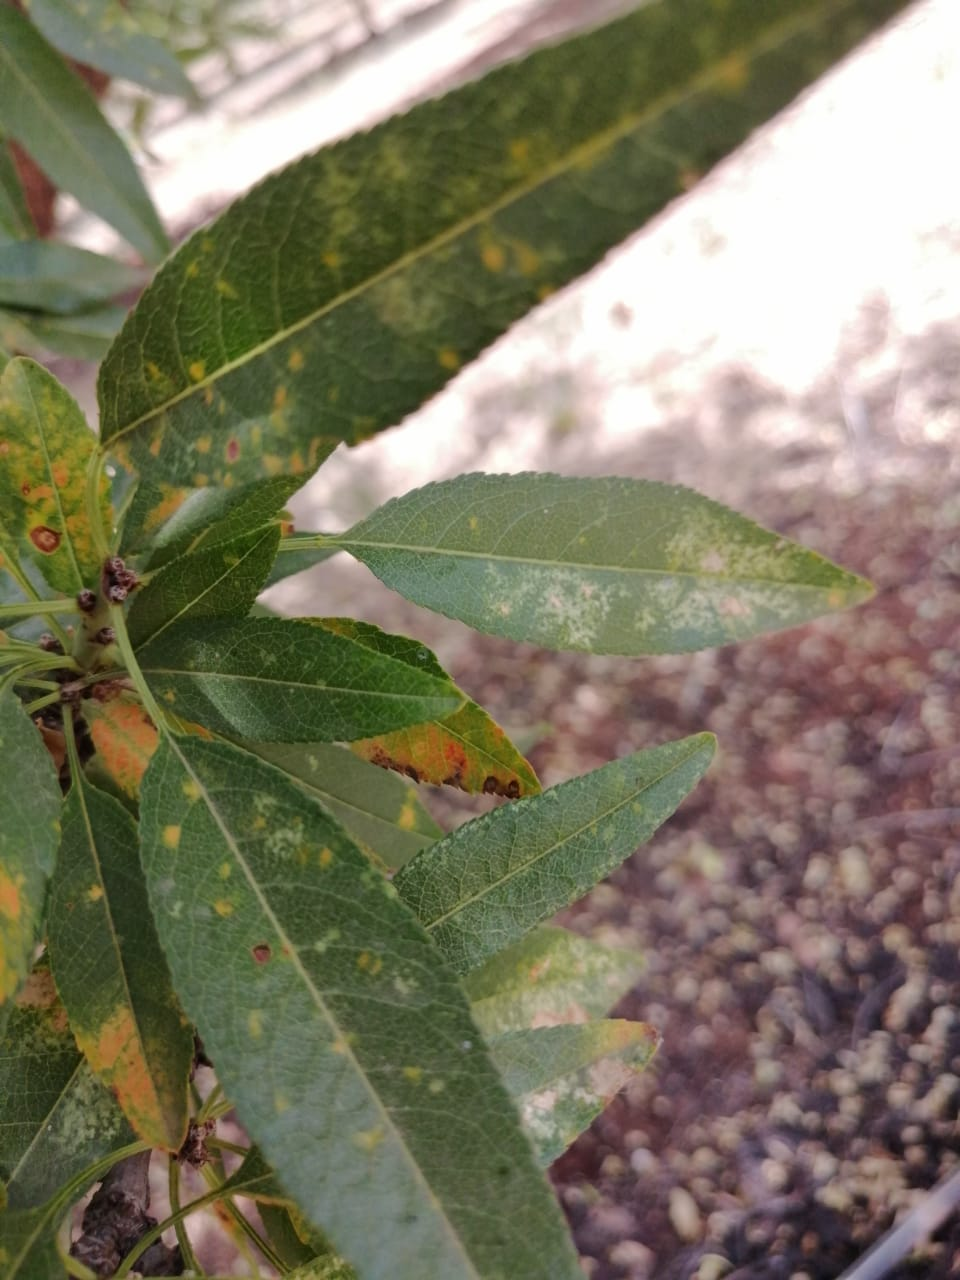faux tigre: (95, 1, 929, 488), (137, 733, 591, 1280), (342, 469, 879, 658), (390, 727, 724, 973)
